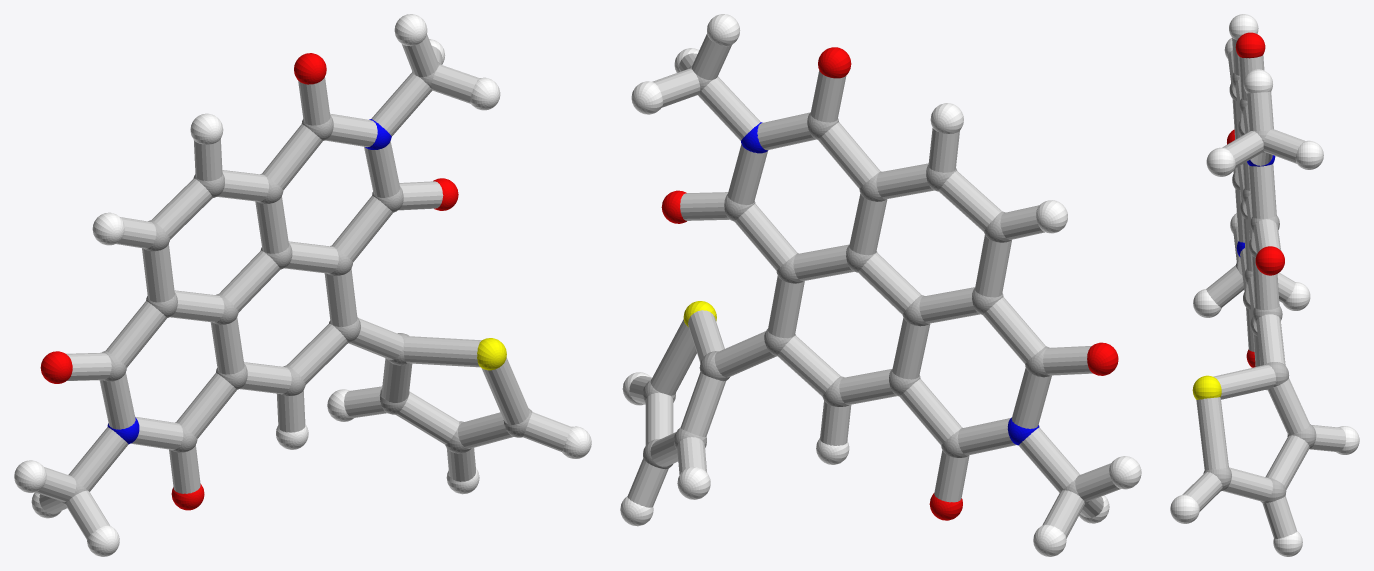
The model's file is Dimethyl_Naphthalene_Dicarboximide_Phi_25_Theta_230_Thiophene.glb.
The picture shows the model from 3 angles, left to right: view 1: azimuth 30°, elevation 25°; view 2: azimuth 150°, elevation 25°; view 3: azimuth 270°, elevation 25°; orthographic projection. The views are drawn at different scales.
Parts seen in each view (by area): view 1: grp14119, grp7241, grp1, grp12309, grp13757, grp11585; view 2: grp14119, grp7241, grp1, grp12309, grp11585; view 3: grp14119, grp7241, grp1, grp12309, grp13757.
Part boxes in pixels (x1=…): grp14119: x1=35, y1=34, x2=571, y2=539; grp7241: x1=14, y1=14, x2=591, y2=556; grp1: x1=60, y1=62, x2=532, y2=505; grp12309: x1=40, y1=53, x2=458, y2=510; grp13757: x1=477, y1=338, x2=506, y2=370; grp11585: x1=107, y1=119, x2=391, y2=444; grp14119: x1=627, y1=33, x2=1120, y2=538; grp7241: x1=620, y1=14, x2=1141, y2=556; grp1: x1=642, y1=65, x2=1089, y2=505; grp12309: x1=661, y1=47, x2=1118, y2=520; grp11585: x1=741, y1=122, x2=1039, y2=445; grp14119: x1=1182, y1=38, x2=1346, y2=538; grp7241: x1=1170, y1=14, x2=1359, y2=556; grp1: x1=1203, y1=72, x2=1316, y2=503; grp12309: x1=1227, y1=32, x2=1284, y2=367; grp13757: x1=1192, y1=375, x2=1221, y2=399.
Bounding box in the file's own units: 11.37 × 10.18 × 3.84.
